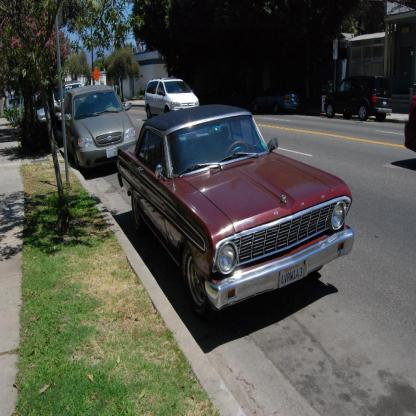Car: (117, 105, 356, 319), (67, 86, 139, 169), (326, 77, 394, 125), (146, 82, 200, 119), (256, 85, 298, 113), (404, 86, 416, 151)
